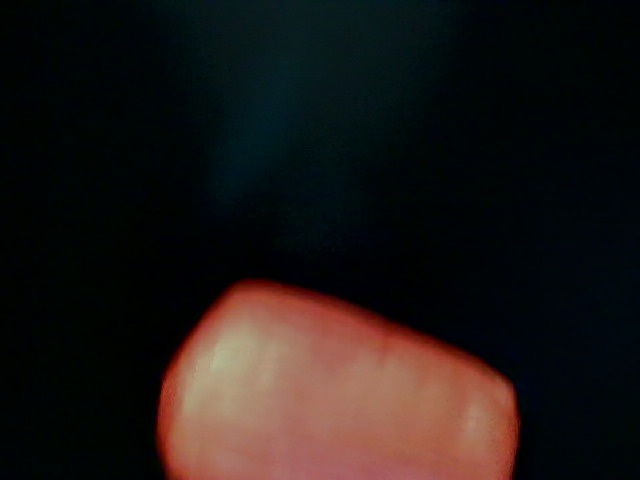YHLJ: (136, 374, 420, 476)
